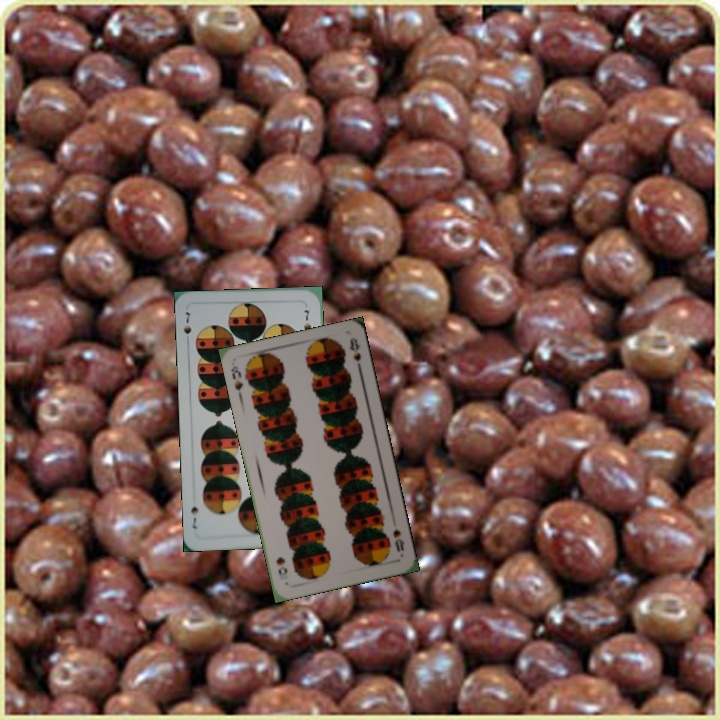S7: (180, 308, 194, 346)
S8: (227, 362, 245, 401), (389, 525, 407, 554)
